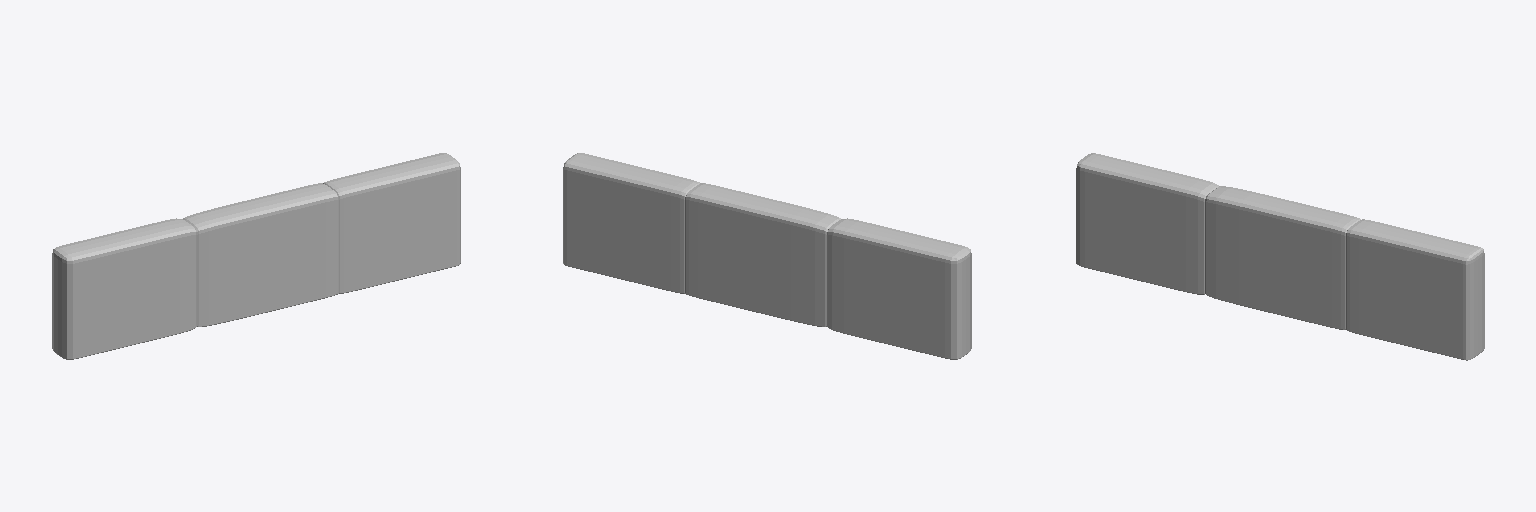
File: sofarightback.obj
3 views of the same model, side by side, from view 1: azimuth 30°, elevation 25°; view 2: azimuth 150°, elevation 25°; view 3: azimuth 330°, elevation 25° (orthographic).
Visible parts, largest first — view 1: 立方体.008; view 2: 立方体.008; view 3: 立方体.008.
Boxes of the visible parts, x1,y1,x2,y2 form: 立方体.008: [52, 153, 460, 359]; 立方体.008: [563, 153, 971, 359]; 立方体.008: [1076, 153, 1484, 360].
Bounding box in the file's own units: 2.91 × 0.7256 × 0.225.